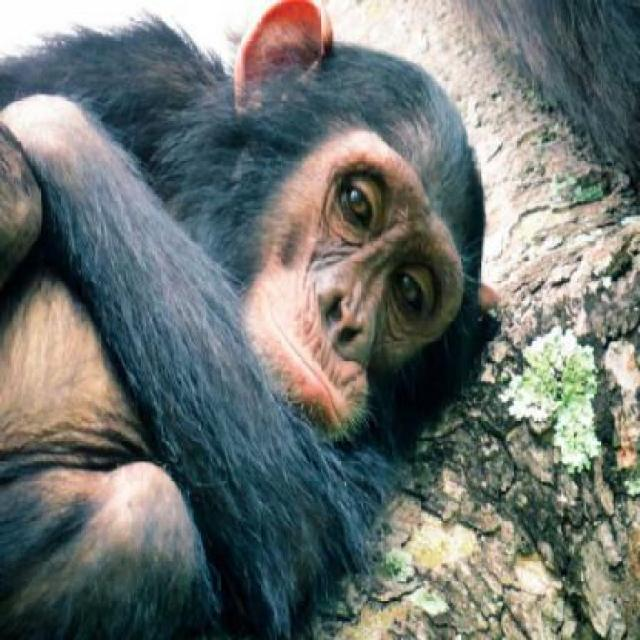Monkey: (0, 0, 517, 635)
